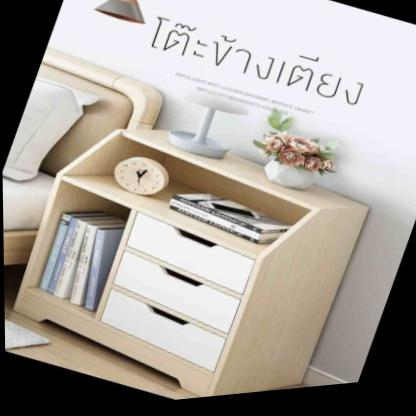Nightstand: (2, 140, 354, 416)
